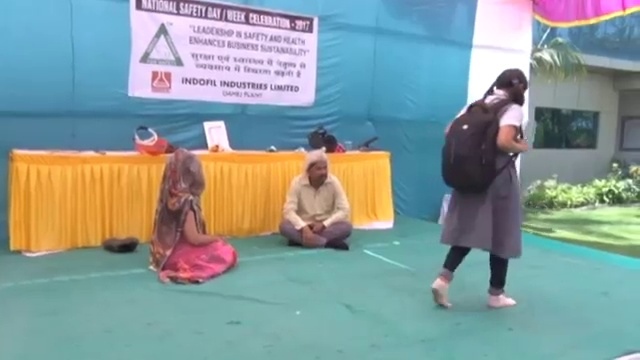helmet_off: (166, 149, 207, 193), (488, 67, 531, 100), (304, 150, 330, 181)
person: (425, 66, 532, 315), (149, 147, 240, 286), (278, 148, 354, 252)
